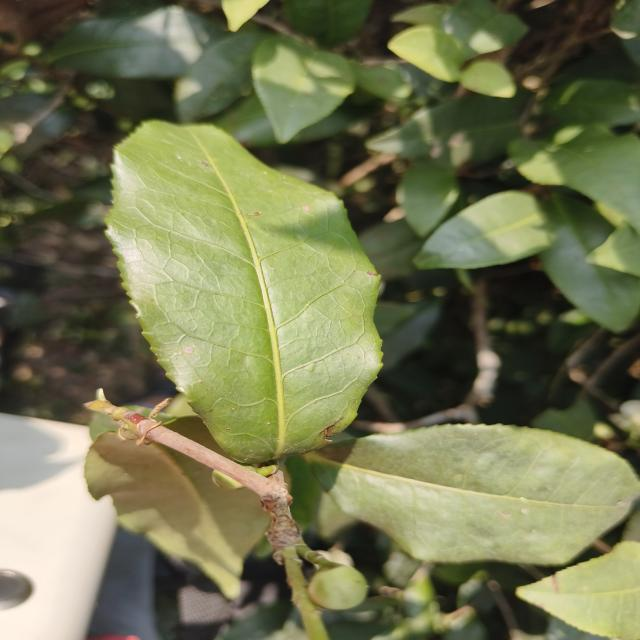Leaf: (107, 121, 381, 463), (306, 424, 640, 565), (84, 429, 269, 598), (539, 195, 640, 332), (48, 5, 227, 79), (512, 126, 640, 229), (516, 541, 640, 640), (366, 95, 524, 167), (414, 190, 553, 269), (252, 36, 354, 143), (174, 32, 262, 122), (396, 160, 459, 237), (540, 79, 640, 126), (388, 25, 467, 82), (165, 416, 231, 461), (460, 60, 516, 98)
